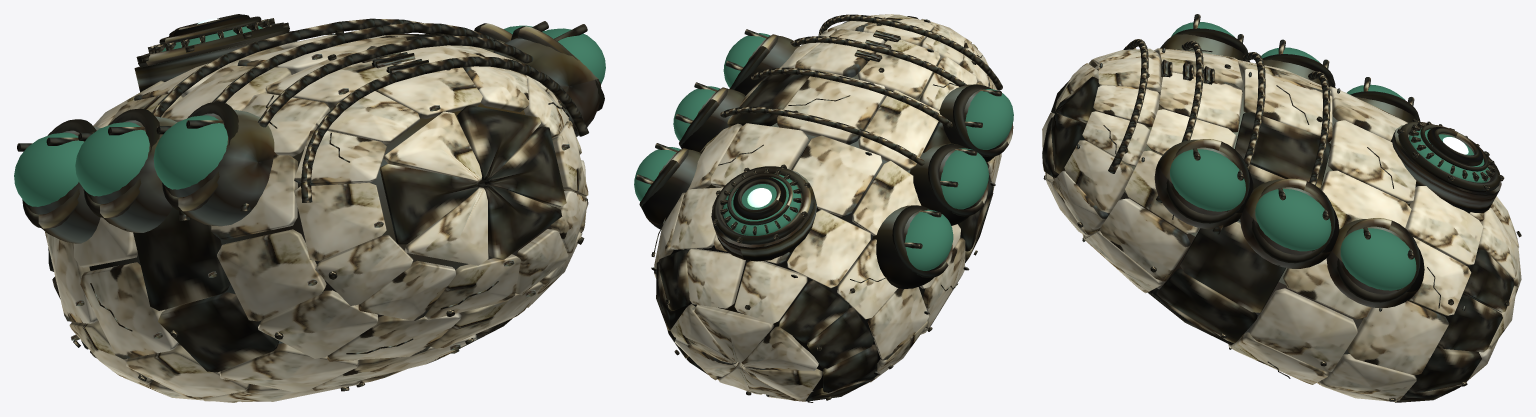
File: body-broodmother-v3.glb
3 renders of one model, left to right at view 1: azimuth 30°, elevation 25°; view 2: azimuth 150°, elevation 25°; view 3: azimuth 270°, elevation 25°, orthographic. The views are drawn at different scales.
Visible parts, largest first — view 1: broodmother-ceramic, broodmother-brass, broodmother-steel, broodmother-glass; view 2: broodmother-ceramic, broodmother-brass, broodmother-steel, broodmother-glass, broodmother-light; view 3: broodmother-ceramic, broodmother-brass, broodmother-steel, broodmother-glass.
Part boxes in pixels (x1,y1,x2,y2): broodmother-ceramic: (45, 35, 588, 402); broodmother-brass: (17, 14, 604, 391); broodmother-steel: (25, 14, 601, 354); broodmother-glass: (14, 25, 605, 206); broodmother-ceramic: (654, 14, 1001, 401); broodmother-brass: (636, 14, 1013, 401); broodmother-steel: (641, 19, 1009, 402); broodmother-glass: (634, 33, 1013, 270); broodmother-light: (747, 188, 771, 207); broodmother-ceramic: (1042, 48, 1521, 401); broodmother-brass: (1042, 14, 1521, 402); broodmother-steel: (1043, 34, 1501, 402); broodmother-glass: (1170, 22, 1489, 290).
Bounding box in the file's own units: 1.42 × 1.24 × 1.68.
Materials: 5 (3 with a texture image).
